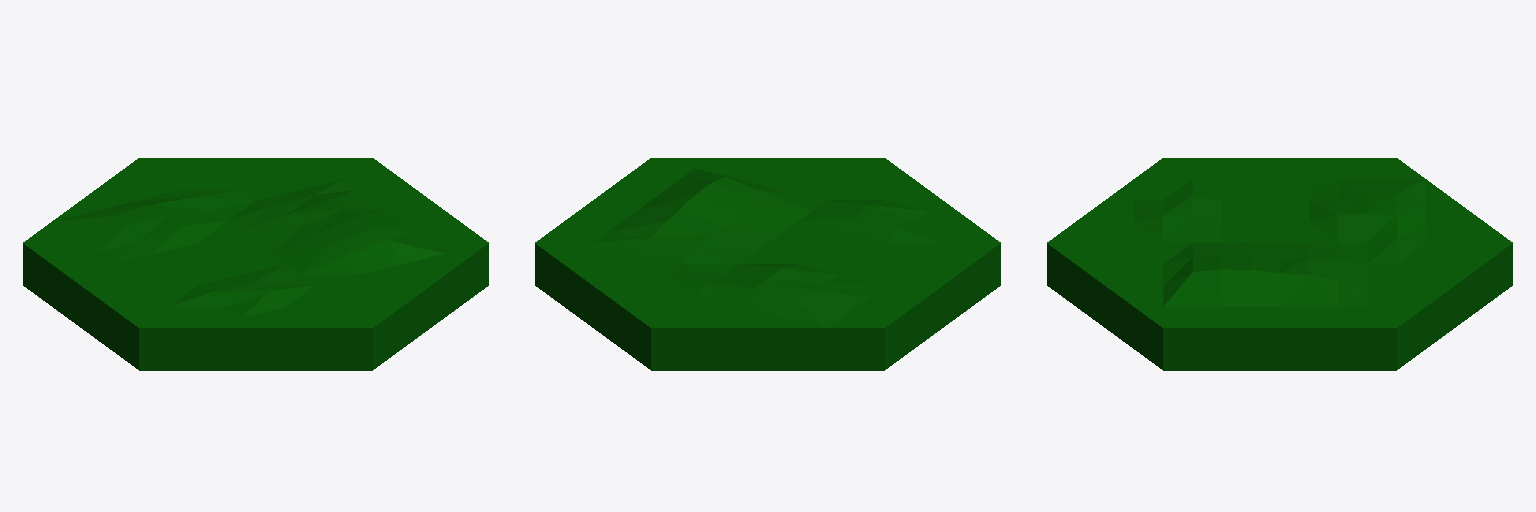
Rendered from pasture.obj.
3 views of the same model, side by side, from view 1: azimuth 30°, elevation 25°; view 2: azimuth 150°, elevation 25°; view 3: azimuth 270°, elevation 25° (orthographic).
Parts seen in each view (by area): view 1: Cylinder; view 2: Cylinder; view 3: Cylinder.
Part boxes in pixels (x1,y1,x2,y2): Cylinder: (23,158,488,370); Cylinder: (535,158,1000,370); Cylinder: (1047,158,1512,370).
Size of the model in its own units: 17.32 by 2.77 by 20.